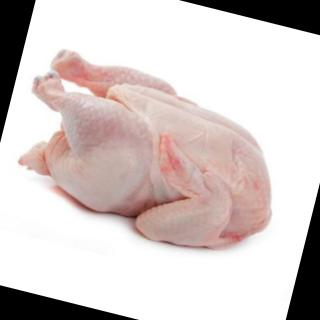Ayam: (3, 45, 297, 265)
